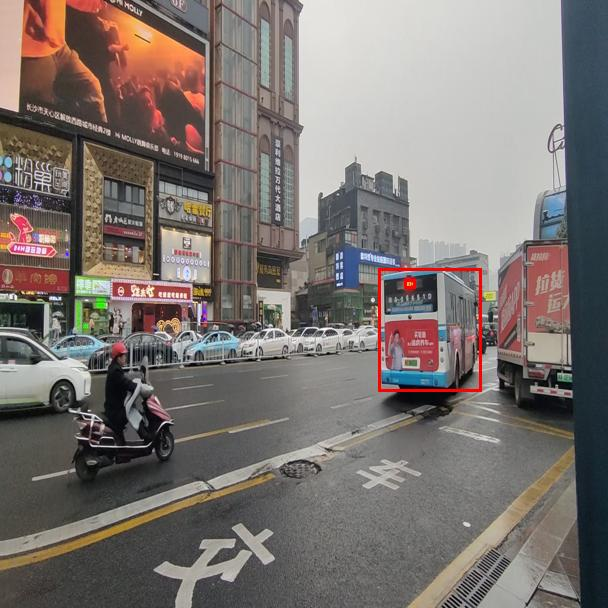bus: (378, 268, 481, 391)
screen: (404, 279, 415, 288)
